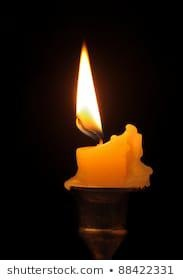fire: (72, 39, 102, 137)
